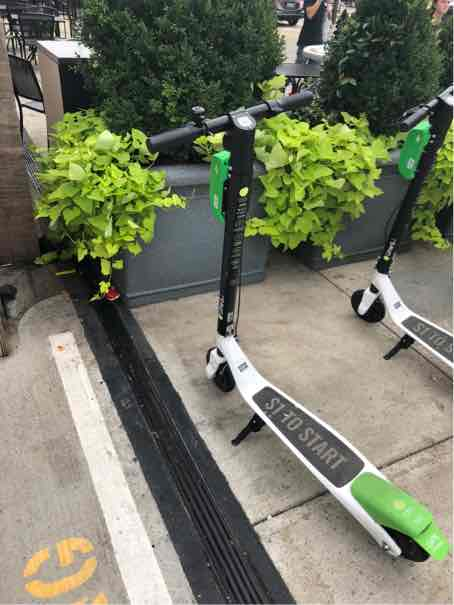scooter: (123, 89, 438, 600)
